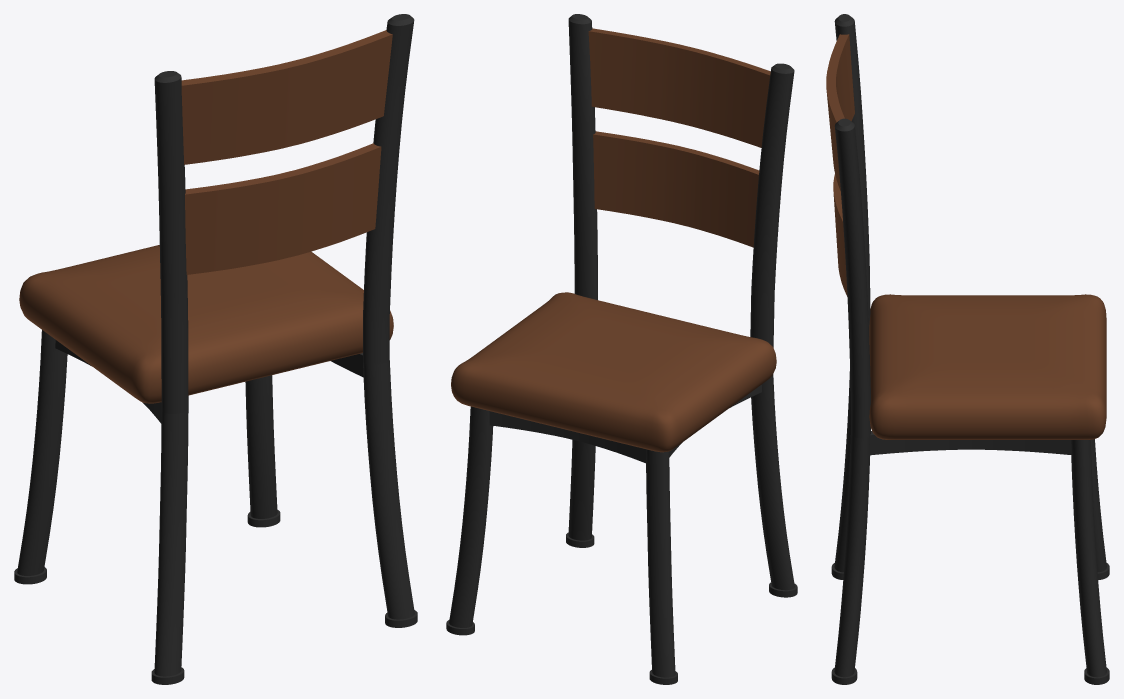
The model's file is Chaise3_9.fbx.
3 renders of one model, left to right at view 1: azimuth 30°, elevation 25°; view 2: azimuth 150°, elevation 25°; view 3: azimuth 270°, elevation 25°, orthographic. The views are drawn at different scales.
Visible parts, largest first — view 1: pCube2672, pCube2679, pCube2680, pCylinder1672, pCylinder1671, pCylinder1667, pCylinder1668, pCylinder1670, pCylinder1669; view 2: pCube2672, pCube2679, pCube2680, pCylinder1672, pCylinder1671, pCylinder1670, pCylinder1669, pCylinder1667, pCylinder1668, pCube2674; view 3: pCube2672, pCylinder1671, pCylinder1668, pCylinder1669, pCube2675, pCube2679, pCylinder1672, pCylinder1667, pCylinder1670, pCube2680.
Part boxes in pixels (box(x1,y1,x2,y2)): pCube2672: box(19, 245, 393, 403); pCube2679: box(181, 30, 392, 164); pCube2680: box(185, 143, 381, 274); pCylinder1672: box(154, 71, 188, 413); pCylinder1671: box(363, 14, 414, 364); pCylinder1667: box(151, 408, 188, 684); pCylinder1668: box(363, 360, 417, 627); pCylinder1670: box(14, 330, 67, 584); pCylinder1669: box(245, 375, 280, 527); pCube2672: box(451, 292, 776, 452); pCube2679: box(588, 28, 770, 147); pCube2680: box(593, 131, 759, 247); pCylinder1672: box(750, 63, 794, 347); pCylinder1671: box(568, 14, 597, 299); pCylinder1670: box(646, 449, 677, 684); pCylinder1669: box(446, 406, 493, 635); pCylinder1667: box(751, 374, 797, 597); pCylinder1668: box(566, 439, 595, 547); pCube2674: box(489, 411, 645, 463); pCube2672: box(869, 294, 1106, 439); pCylinder1671: box(834, 118, 870, 438); pCylinder1668: box(831, 434, 870, 684); pCylinder1669: box(1071, 440, 1109, 684); pCube2675: box(869, 431, 1071, 455); pCube2679: box(826, 34, 854, 191); pCylinder1672: box(834, 14, 870, 335); pCylinder1667: box(831, 369, 850, 579); pCylinder1670: box(1090, 439, 1109, 579); pCube2680: box(833, 174, 847, 296).
Bounding box in the file's own units: 39.07 × 85.74 × 39.63.
